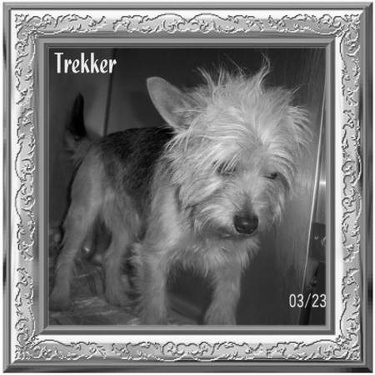dog: (46, 51, 312, 327)
